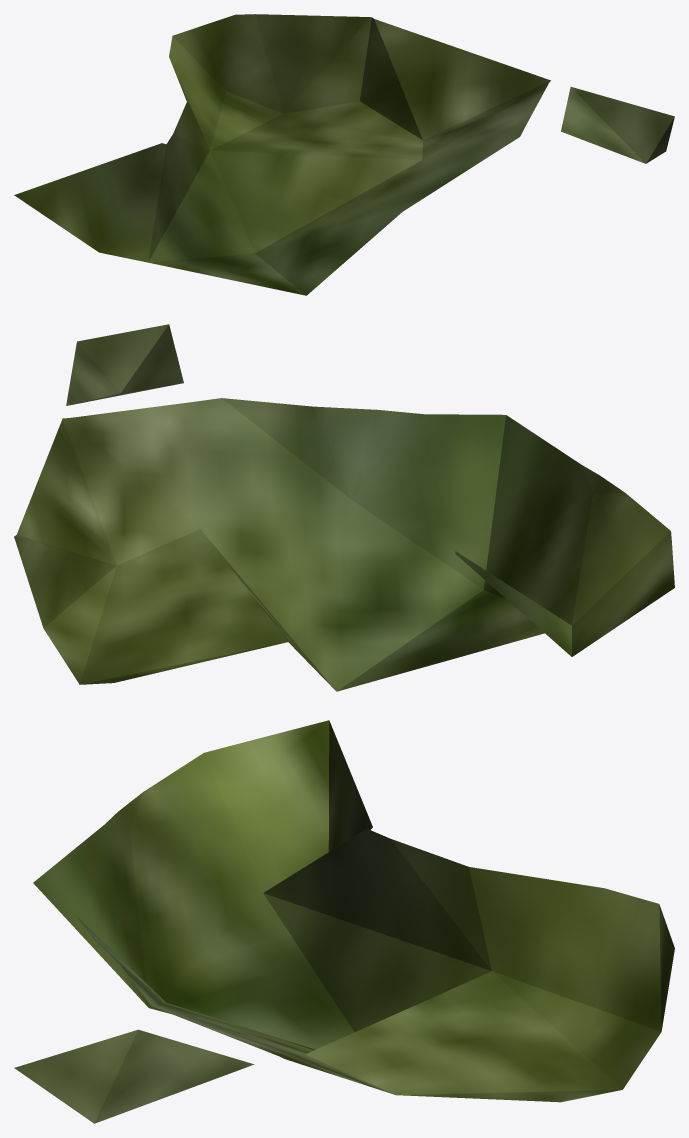
3 renders of one model, top to bottom at view 1: azimuth 30°, elevation 25°; view 2: azimuth 150°, elevation 25°; view 3: azimuth 270°, elevation 25°, orthographic. The views are drawn at different scales.
Size of the model in its own units: 1.02 by 0.2291 by 0.7608.
1 material, 1 textured.
